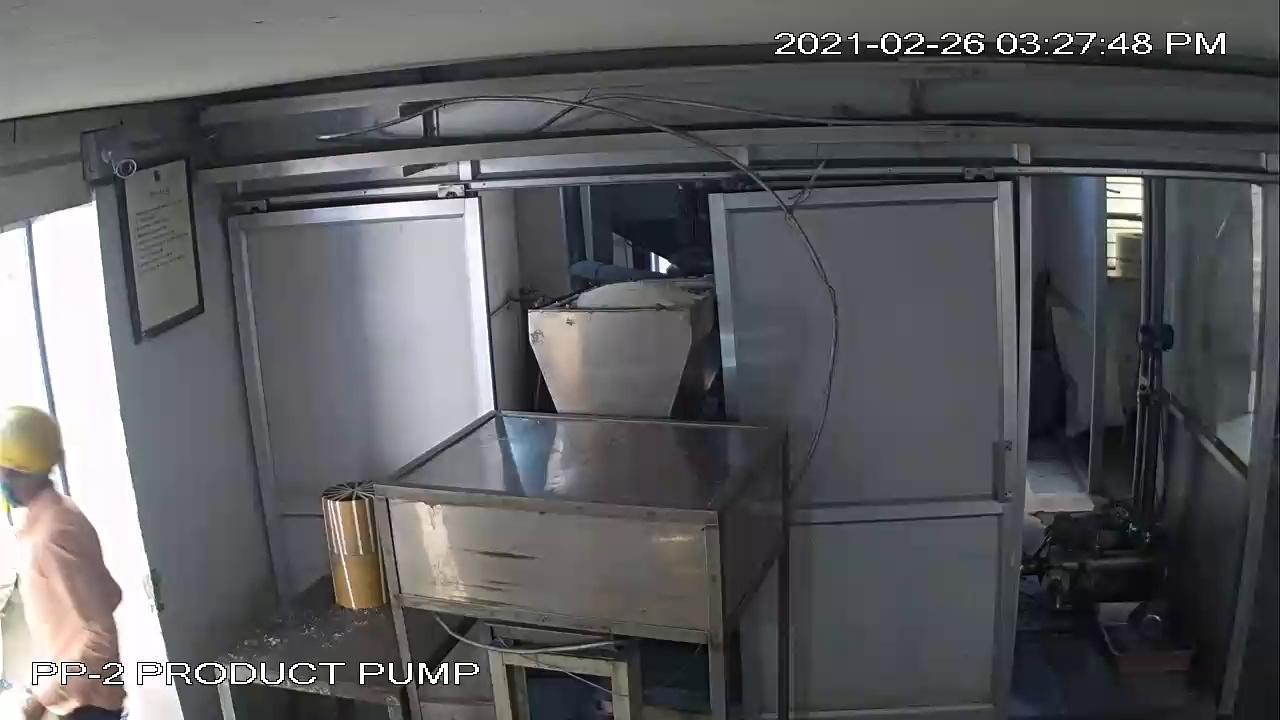helmet: (1, 399, 77, 479)
